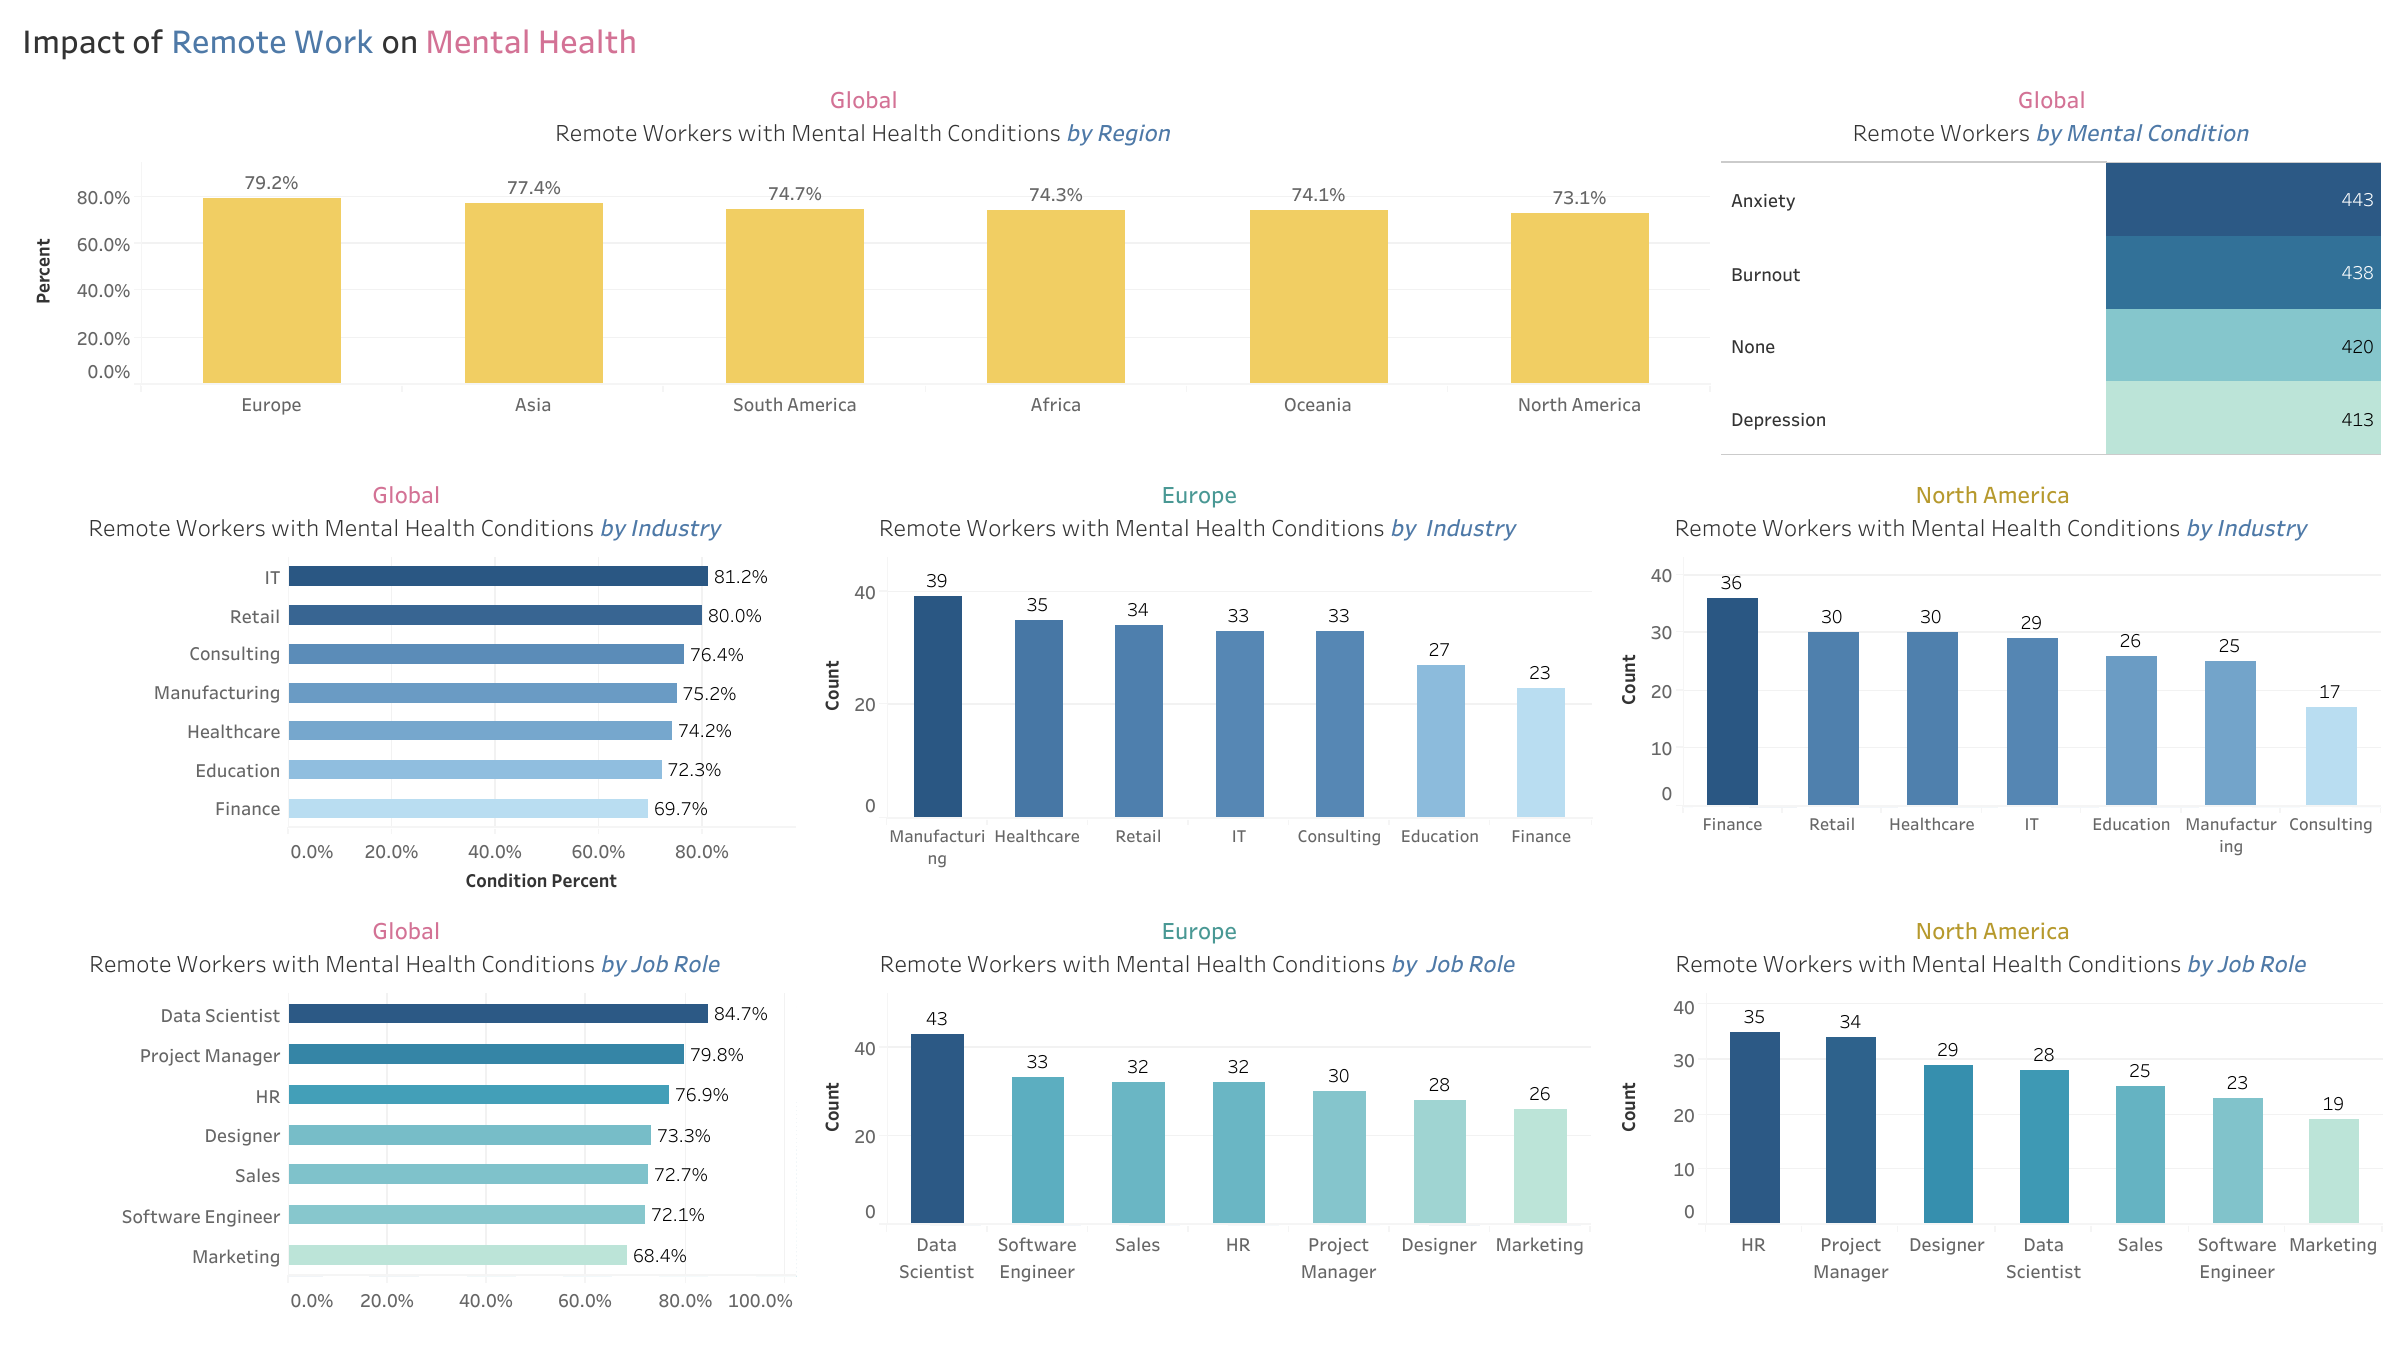

This screenshot's page, from the dashboard's own definition file:
{"tool":"tableau","page":{"name":"hor_Dashboard","canvas":[1600,900],"ordinal":0},"visuals":[{"type":"title","box":[8,8,1584,52]},{"type":"worksheet","title":"query3c","mark":"Automatic","rows":["percent"],"cols":["Region"],"box":[8,60,1136.1,258.2]},{"type":"worksheet","title":"query6","mark":"Square","rows":["Mental_Health_Condition"],"box":[1144.1,60,447.9,258.2]},{"type":"worksheet","title":"query12a","mark":"Automatic","rows":["Industry"],"cols":["condition_percent"],"box":[8,318.2,525.6,286.2]},{"type":"worksheet","title":"query3e","mark":"Automatic","rows":["COUNT(Mental_Health_Condition)"],"cols":["Industry"],"box":[533.6,318.2,531.6,286.2]},{"type":"worksheet","title":"query3f","mark":"Automatic","rows":["COUNT(Mental_Health_Condition)"],"cols":["Industry"],"box":[1065.2,318.2,526.8,286.2]},{"type":"worksheet","title":"query12b","mark":"Automatic","rows":["Job_Role"],"cols":["condition_percent"],"box":[8,604.4,525.6,287.6]},{"type":"worksheet","title":"query3g","mark":"Automatic","rows":["COUNT(Mental_Health_Condition)"],"cols":["Job_Role"],"box":[533.6,604.4,531.6,287.6]},{"type":"worksheet","title":"query3h","mark":"Automatic","rows":["COUNT(Mental_Health_Condition)"],"cols":["Job_Role"],"box":[1065.2,604.4,526.8,287.6]}]}

Visuals, with their boxes in screenshot pixels (x1, y1, x2, y2), scaled from the page's 1600x900 canvas onto the 2399x1349 screenshot:
title: {"x1": 12, "y1": 12, "x2": 2387, "y2": 90}
"query3c" worksheet: {"x1": 12, "y1": 90, "x2": 1715, "y2": 477}
"query6" worksheet (Square marks): {"x1": 1715, "y1": 90, "x2": 2387, "y2": 477}
"query12a" worksheet: {"x1": 12, "y1": 477, "x2": 800, "y2": 906}
"query3e" worksheet: {"x1": 800, "y1": 477, "x2": 1597, "y2": 906}
"query3f" worksheet: {"x1": 1597, "y1": 477, "x2": 2387, "y2": 906}
"query12b" worksheet: {"x1": 12, "y1": 906, "x2": 800, "y2": 1337}
"query3g" worksheet: {"x1": 800, "y1": 906, "x2": 1597, "y2": 1337}
"query3h" worksheet: {"x1": 1597, "y1": 906, "x2": 2387, "y2": 1337}
